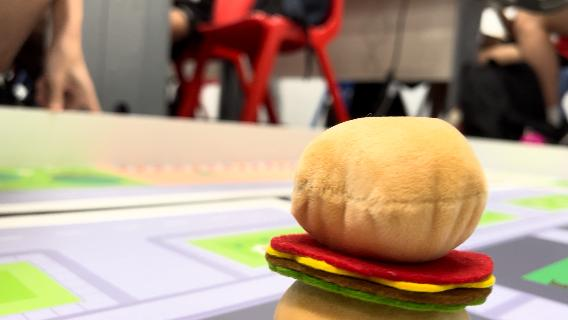burger: (264, 114, 498, 320)
